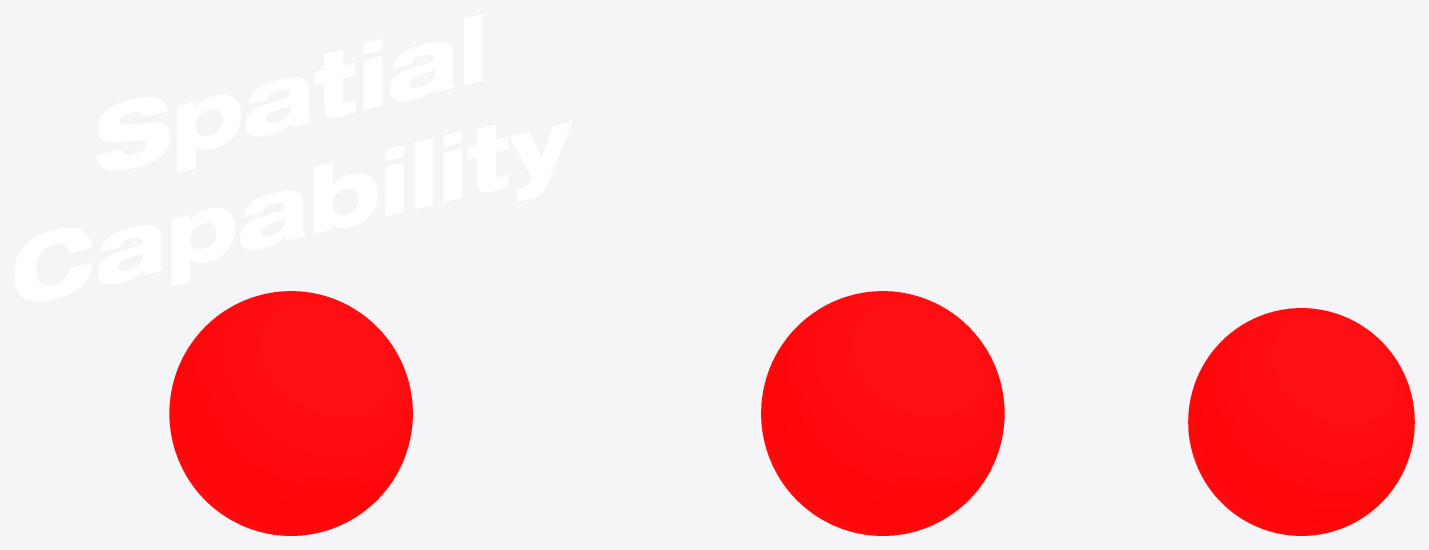
3 renders of one model, left to right at view 1: azimuth 30°, elevation 25°; view 2: azimuth 150°, elevation 25°; view 3: azimuth 270°, elevation 25°, orthographic. The views are drawn at different scales.
Visible parts, largest first — view 1: Sphere.001, Sphere; view 2: Sphere.001; view 3: Sphere.001.
Boxes of the visible parts, x1,y1,x2,y2 form: Sphere.001: (169,291,412,535); Sphere: (14,14,572,301); Sphere.001: (761,291,1004,535); Sphere.001: (1188,308,1414,535).
Bounding box in the file's own units: 0.8471 × 0.6739 × 0.3202.
